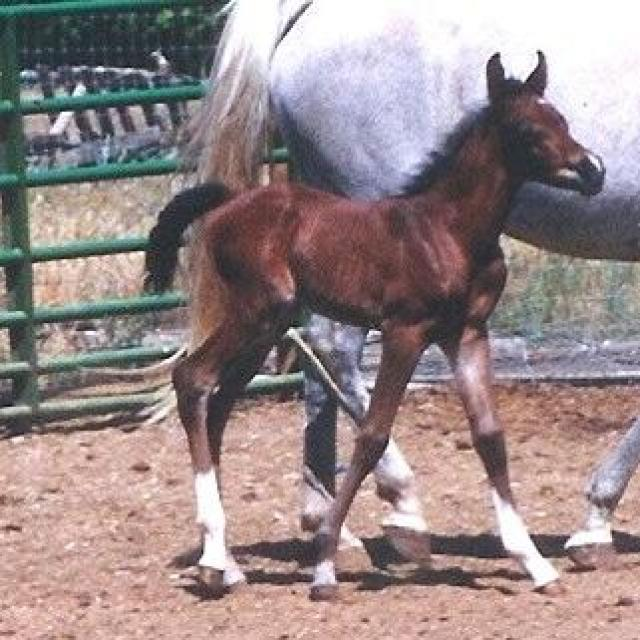horse: (144, 44, 604, 600)
